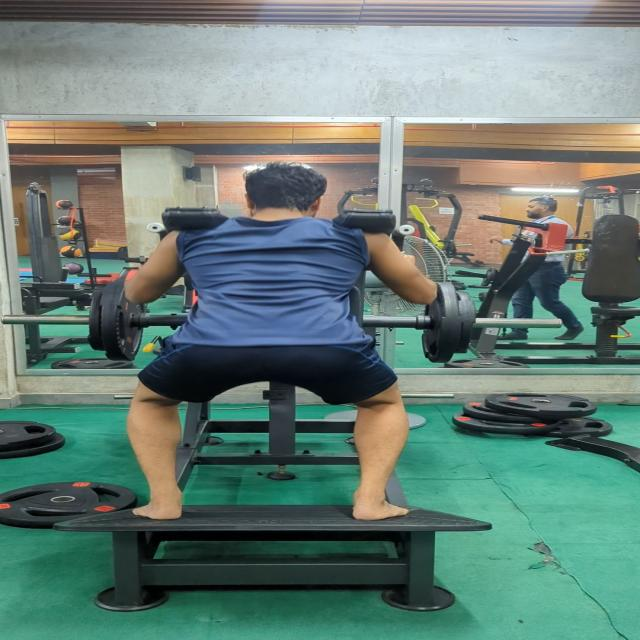Normal_SquatsWithBarbell: (91, 159, 474, 535)
